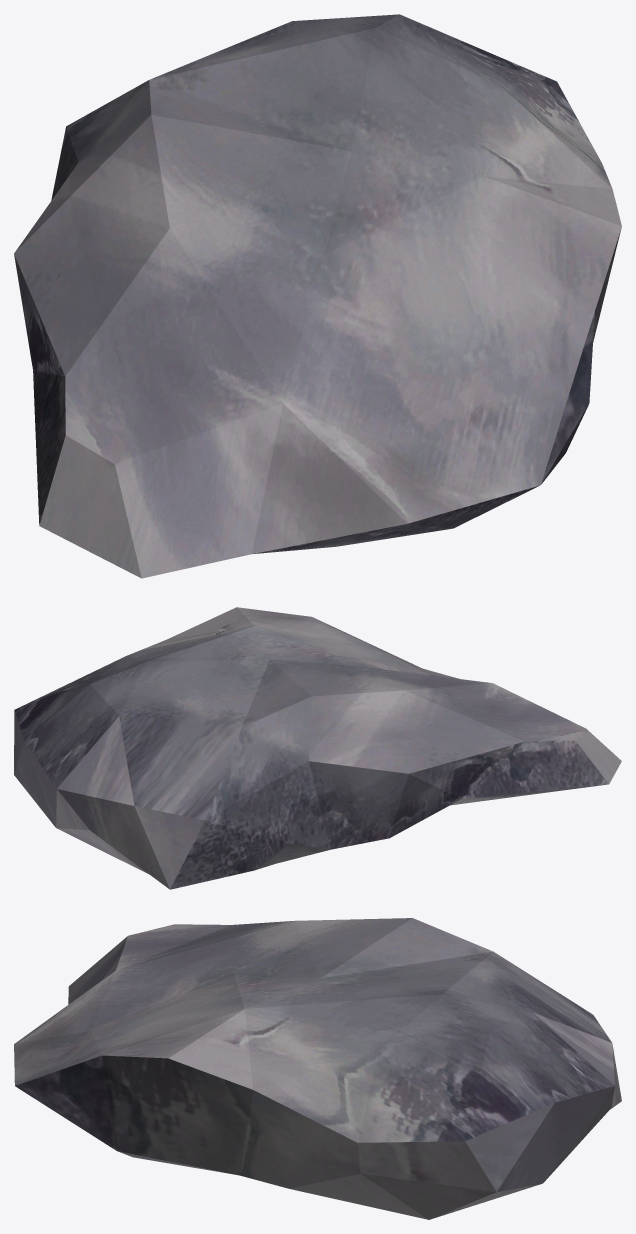
The model's file is lowply_rock.fbx.
The picture shows the model from 3 angles, top to bottom: view 1: azimuth 30°, elevation 25°; view 2: azimuth 150°, elevation 25°; view 3: azimuth 270°, elevation 25°; orthographic projection. The views are drawn at different scales.
Parts seen in each view (by area): view 1: Stone3; view 2: Stone3; view 3: Stone3.
Part boxes in pixels (x1,y1,x2,y2): Stone3: [14, 14, 621, 578]; Stone3: [14, 607, 621, 889]; Stone3: [14, 918, 621, 1219].
Bounding box in the file's own units: 1816 × 707 × 1846.
